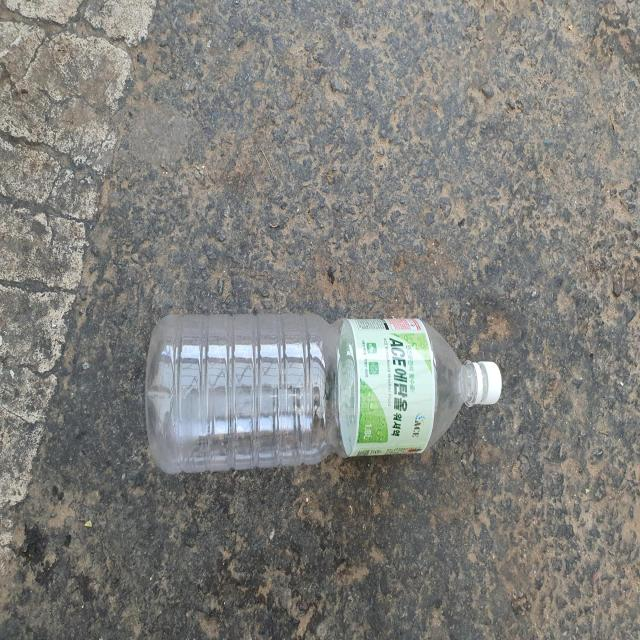plastic: (145, 314, 503, 474)
